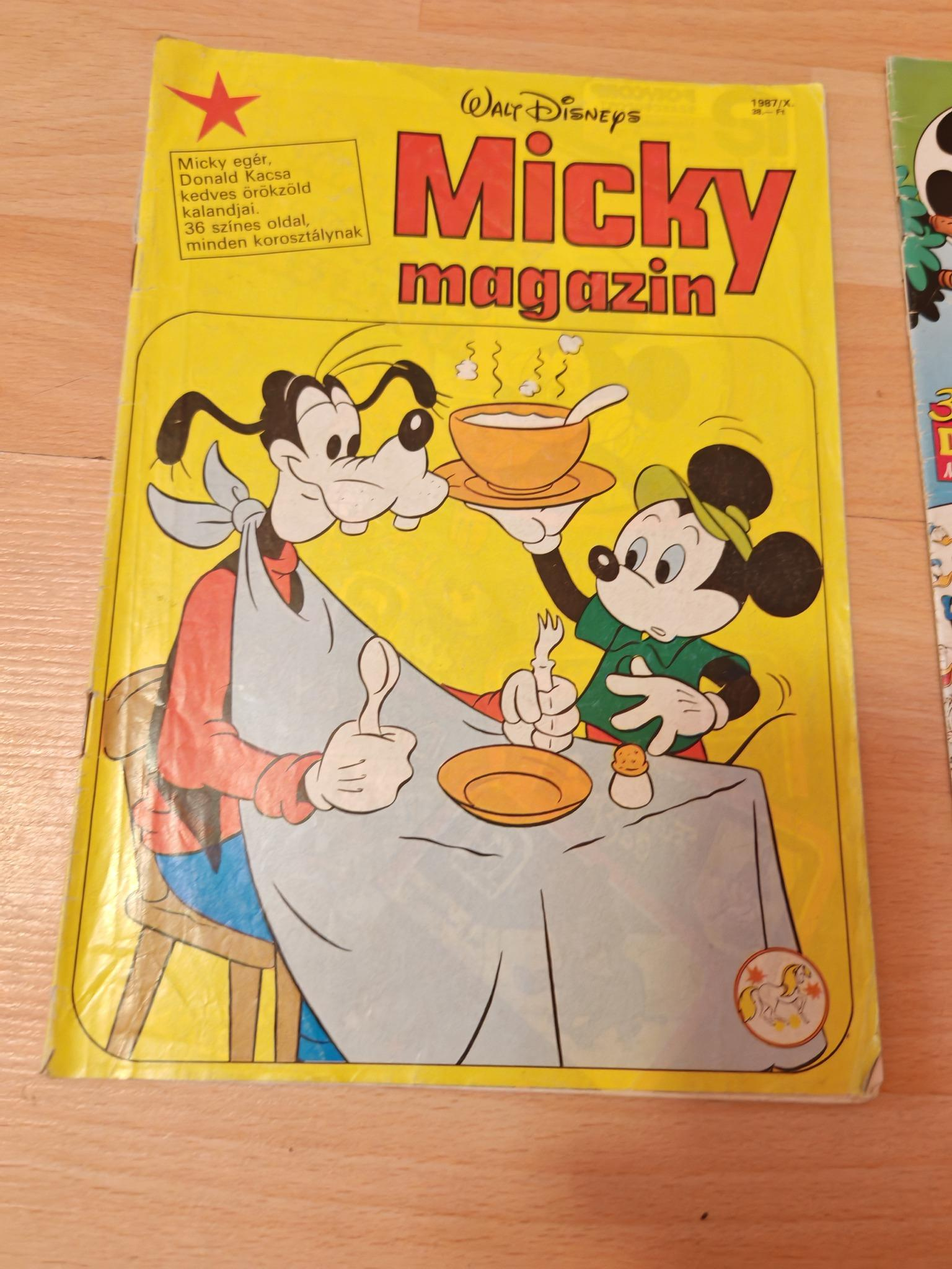comic: (49, 38, 908, 1098)
